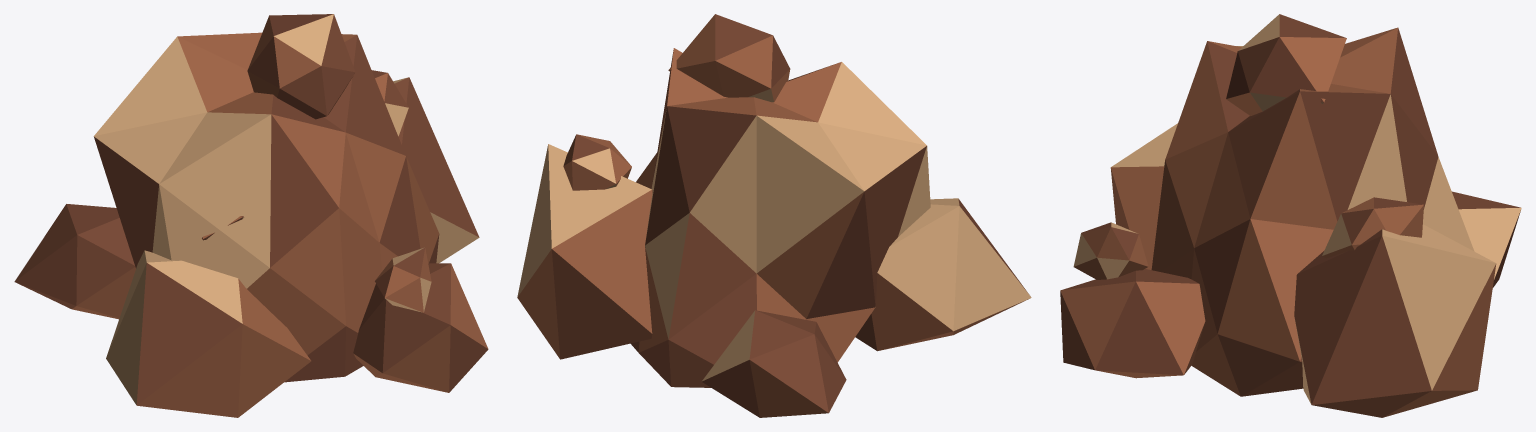
The model's file is bauxite_b.glb.
3 renders of one model, left to right at view 1: azimuth 30°, elevation 25°; view 2: azimuth 150°, elevation 25°; view 3: azimuth 270°, elevation 25°, orthographic. The views are drawn at different scales.
Parts seen in each view (by area): view 1: bauxite_b; view 2: bauxite_b; view 3: bauxite_b.
Part boxes in pixels (left/top/right/bottom): bauxite_b: left=14, top=14, right=488, bottom=417; bauxite_b: left=517, top=14, right=1031, bottom=417; bauxite_b: left=1060, top=14, right=1521, bottom=417.
Size of the model in its own units: 1.25 by 0.8594 by 1.12.
